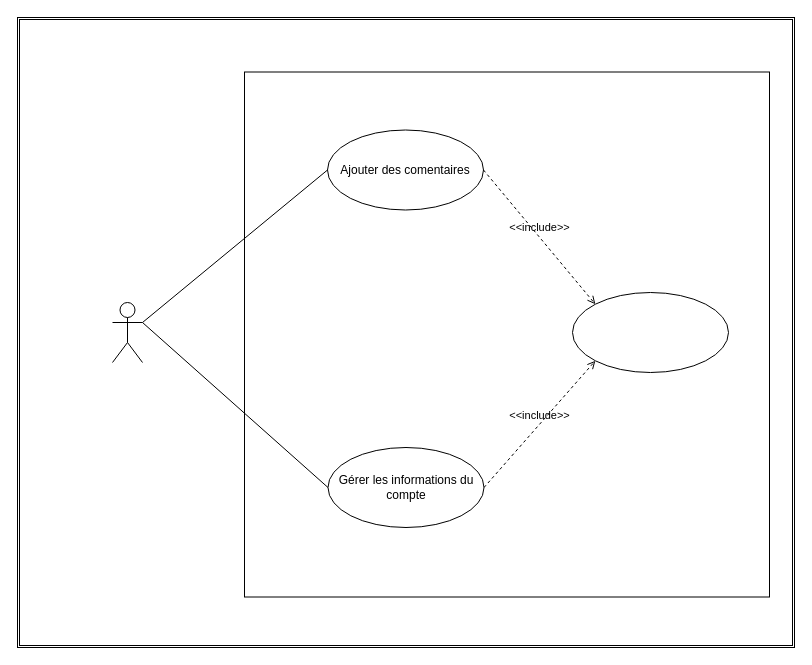
Image size: 812x665. Some labels were removed from this diagram. Each missing label, with the centre of its shape:
"Redacteur" belongs at point (127, 332).
"S'authentifier" belongs at point (650, 332).
